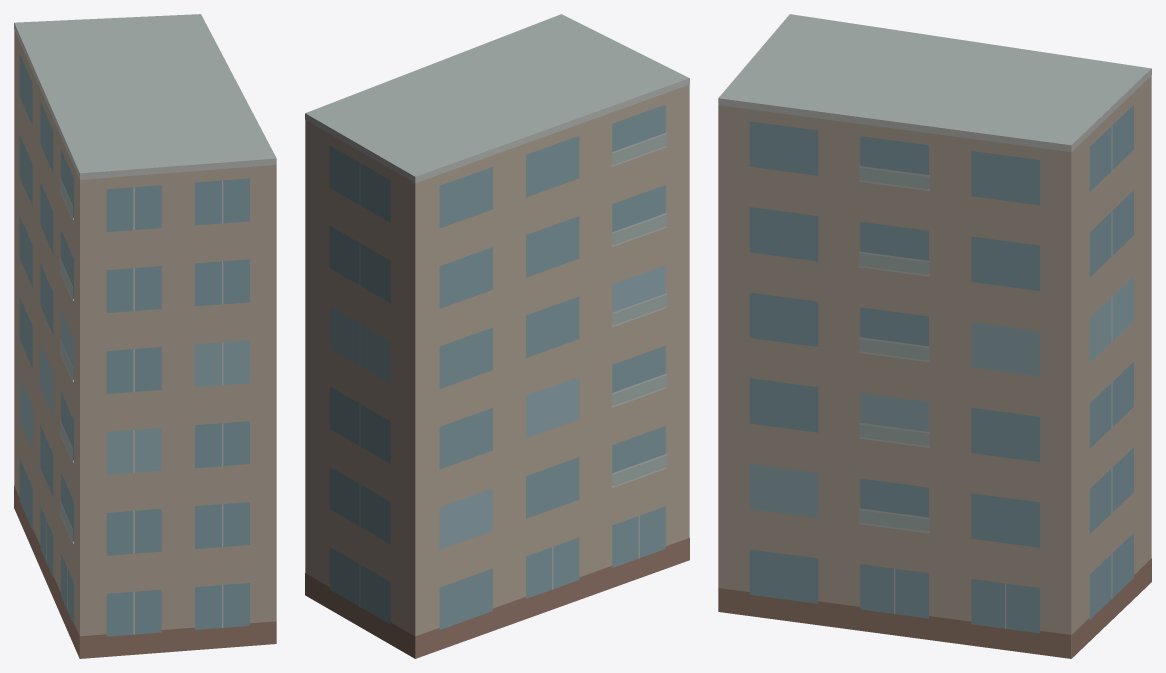
Rendered from survey-upis-32875210.glb.
3 views of the same model, side by side, from view 1: azimuth 30°, elevation 25°; view 2: azimuth 150°, elevation 25°; view 3: azimuth 270°, elevation 25° (orthographic). The views are drawn at different scales.
Visible parts, largest first — view 1: survey-upis-32875210.tmp; view 2: survey-upis-32875210.tmp; view 3: survey-upis-32875210.tmp.
Part boxes in pixels (bbox=[...]): survey-upis-32875210.tmp: bbox=[14, 14, 276, 658]; survey-upis-32875210.tmp: bbox=[305, 14, 689, 658]; survey-upis-32875210.tmp: bbox=[718, 14, 1151, 658].
Size of the model in its own units: 10.04 by 18.3 by 14.01.
